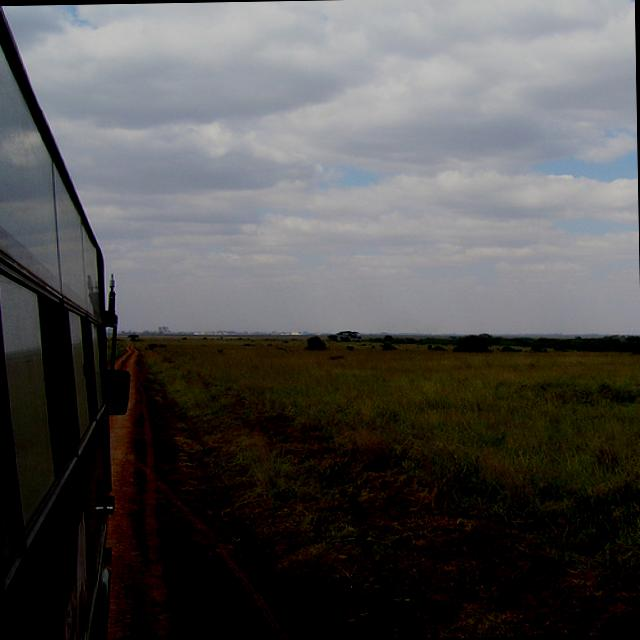Vehicle: (0, 3, 134, 640)
